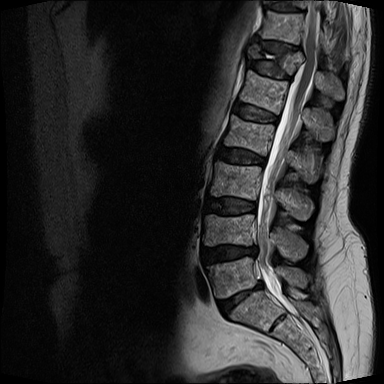Degenerative Disc Disease (DDD): (259, 0, 309, 17)
Lumbar Disc Bulge (LDB): (208, 274, 273, 322), (191, 236, 264, 269)
Normal IVD: (195, 186, 261, 222), (211, 136, 271, 172), (227, 96, 283, 130)
Spinal Stenosis (SS): (237, 229, 267, 268), (251, 273, 269, 301)
Spondylolisthesis: (239, 22, 317, 83)
Thoracic Disc Bulge (TDB): (237, 48, 297, 87), (244, 28, 306, 57)
